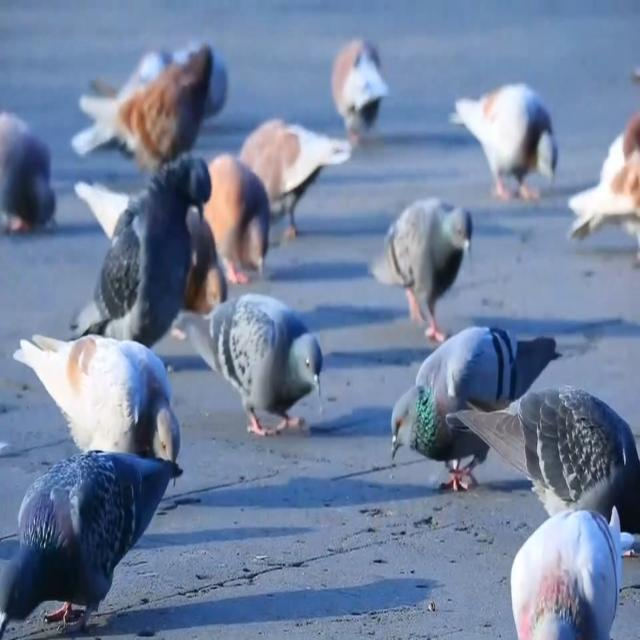bird: (0, 433, 188, 640), (381, 303, 558, 511), (52, 147, 222, 362), (64, 159, 247, 348), (443, 369, 640, 543), (164, 274, 335, 473), (6, 316, 192, 490), (61, 29, 239, 181), (497, 487, 639, 640), (218, 102, 363, 246), (353, 193, 482, 350), (72, 22, 238, 124), (439, 68, 558, 204), (555, 92, 640, 276), (190, 138, 280, 294), (318, 12, 396, 144), (0, 90, 64, 248)
